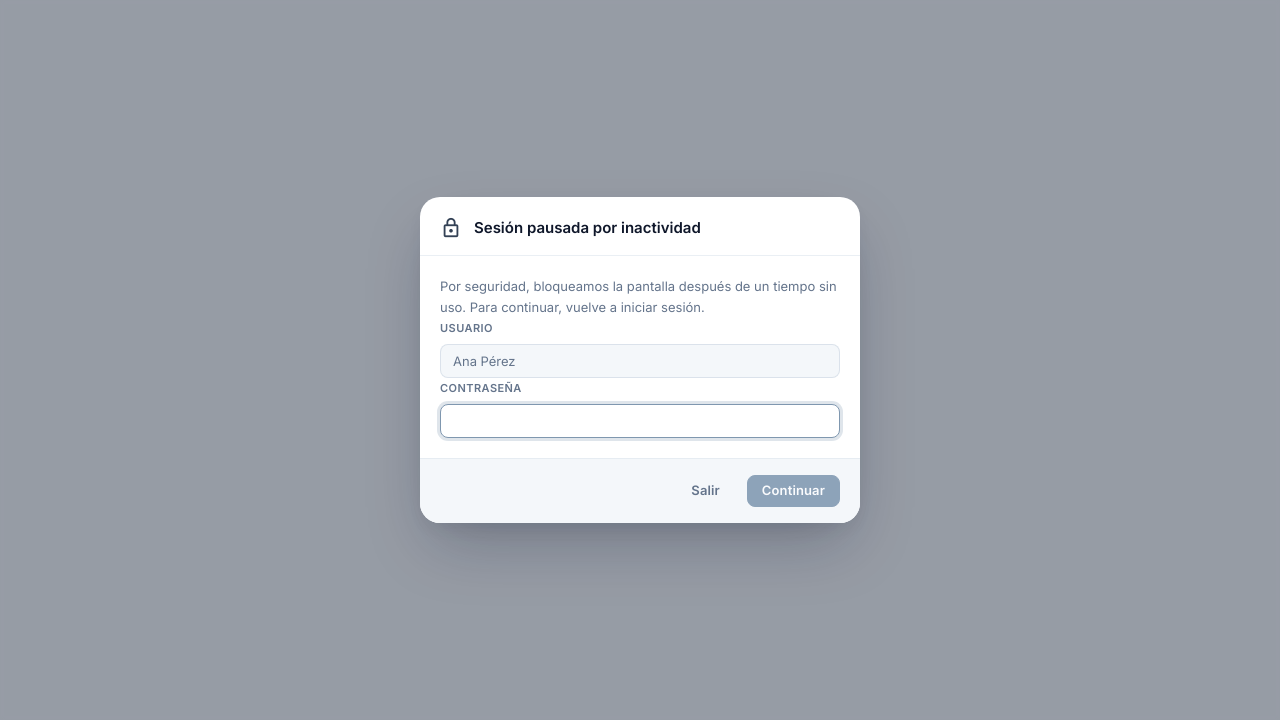
Test case: SessionLockOverlay › con contraseña incorrecta: muestra el error, mantiene el overlay y no navega
In the password field labelled "Contraseña": point(640, 421) [440, 404, 840, 438], type "mala-clave"
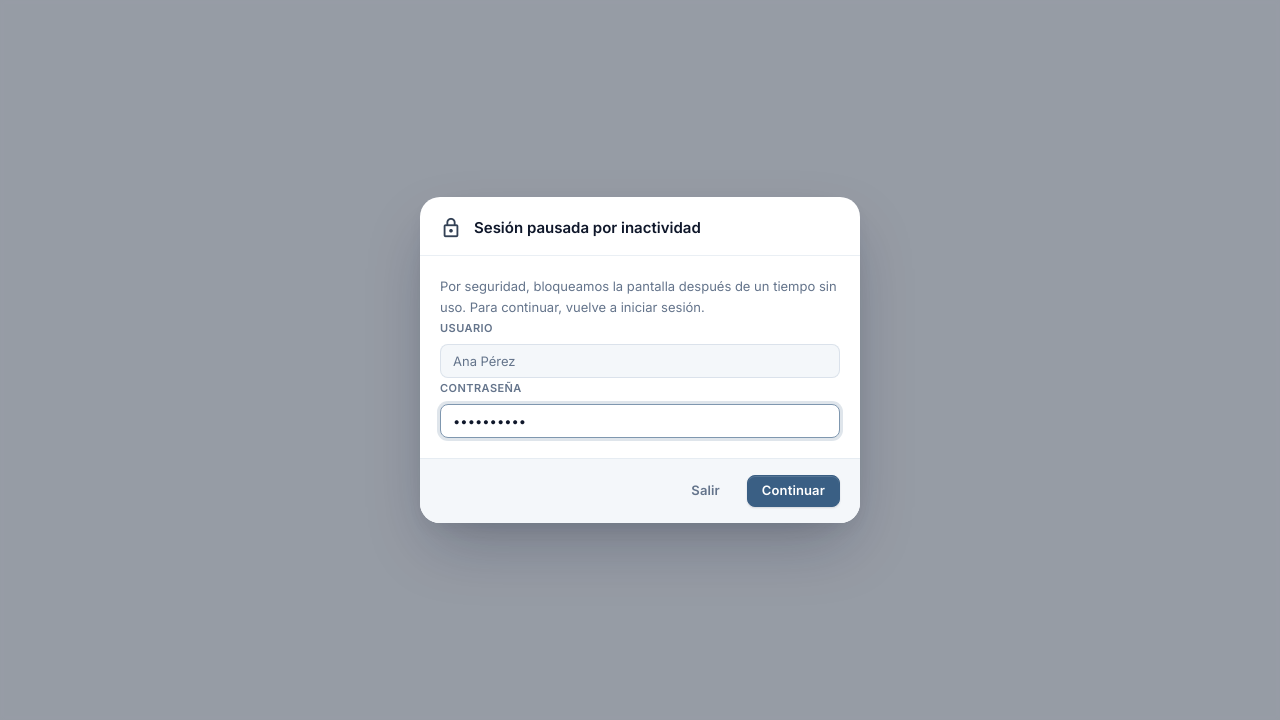
Click the button "Continuar": point(793, 491) [747, 475, 840, 507]
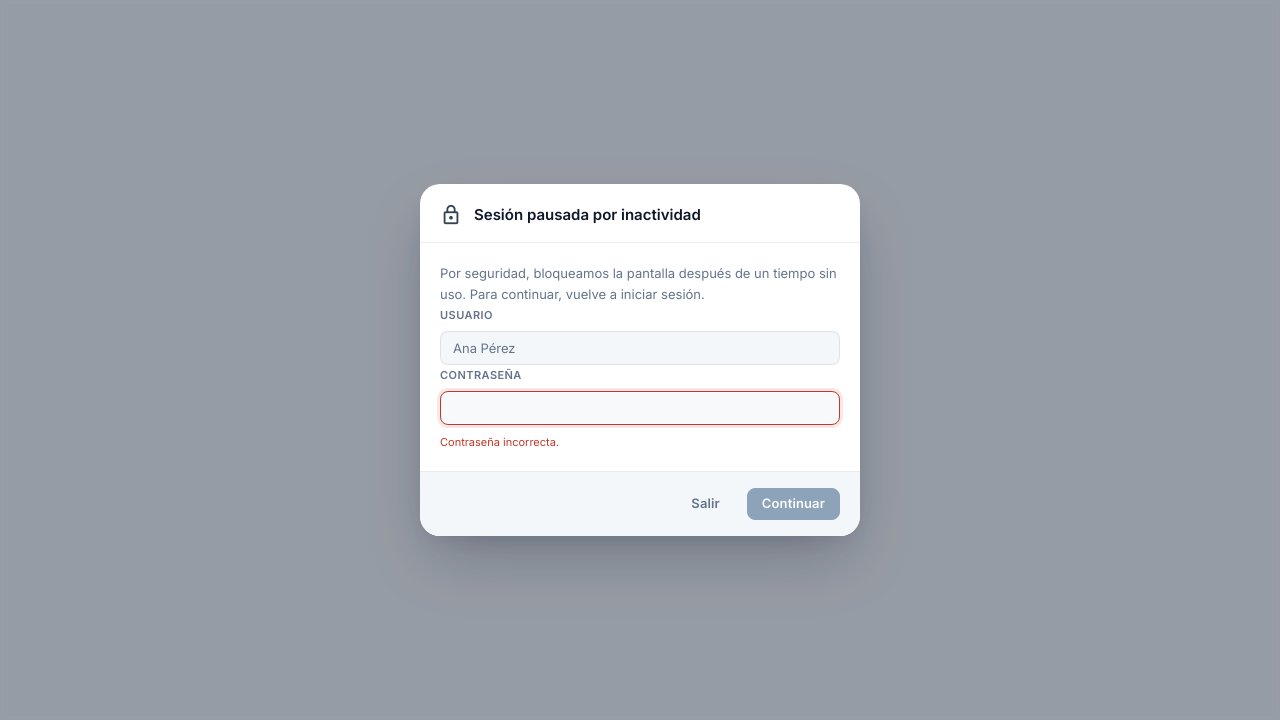
expect the password field labelled "Contraseña" is shown: met, box [440, 391, 840, 425]
expect the text "Contraseña incorrecta." is shown: met, box [440, 435, 559, 449]
